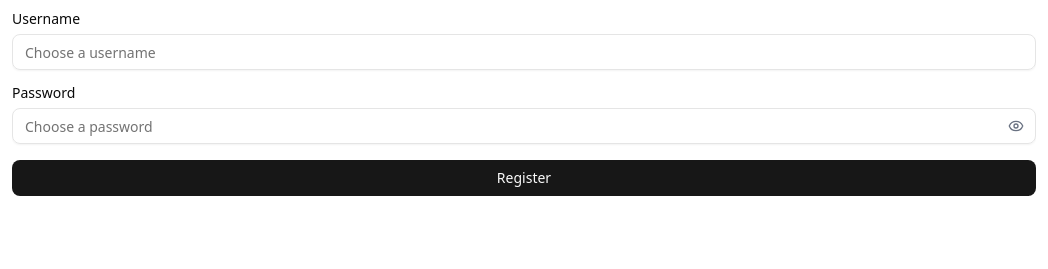
Test: RegisterForm › shows validation errors for short username and password
Type short credentials
Type "ab" into the field with placeholder "Choose a username" at (524, 52), box [12,34,1036,70]
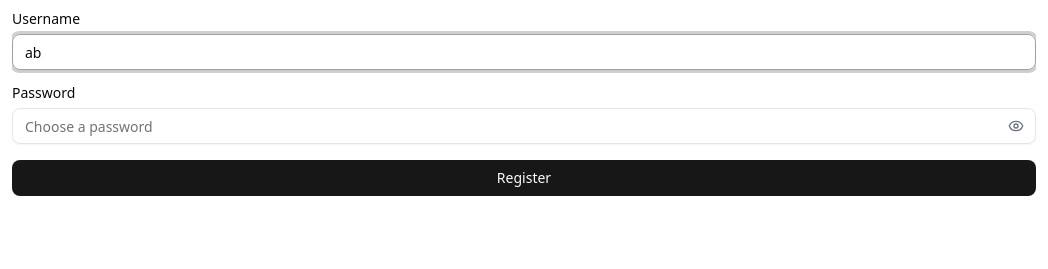
Type "12345" into the password field with placeholder "Choose a password" at (524, 126), box [12,108,1036,144]
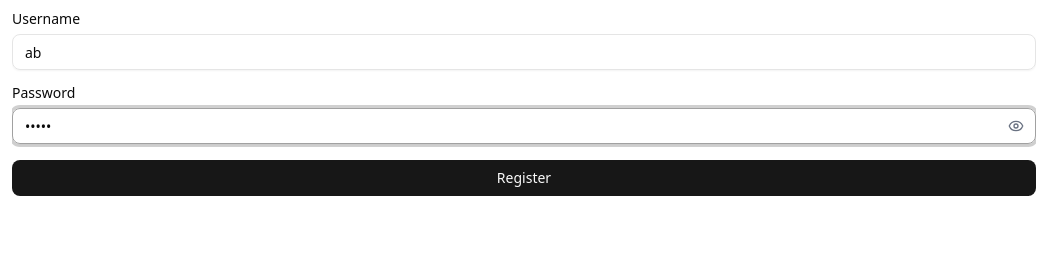
Click register
Click the button "Register" at (524, 178), box [12,160,1036,196]
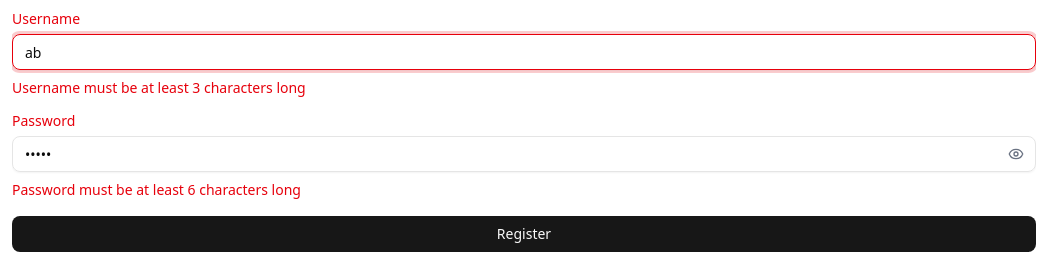
Now the text "Username must be at least 3 characters long" is shown, box [12,78,306,97]
Now the text "Password must be at least 6 characters long" is shown, box [12,180,301,199]
